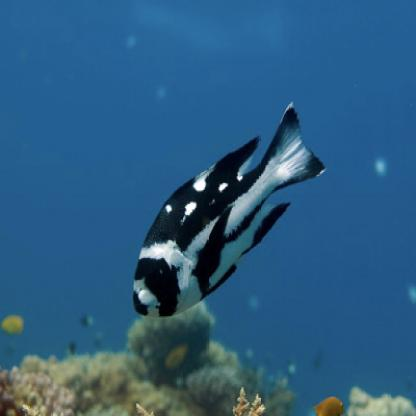Lutjanidae -Snappers-: (125, 95, 337, 330)
